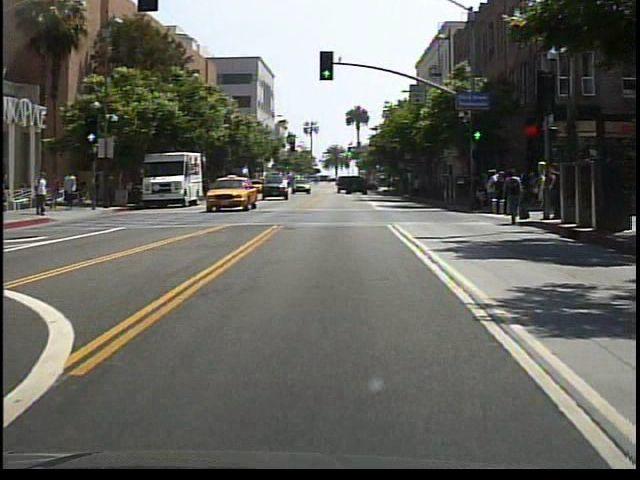person: (500, 166, 526, 225), (35, 168, 52, 217), (63, 168, 81, 212), (103, 167, 119, 208), (50, 173, 65, 210), (92, 170, 105, 207)
